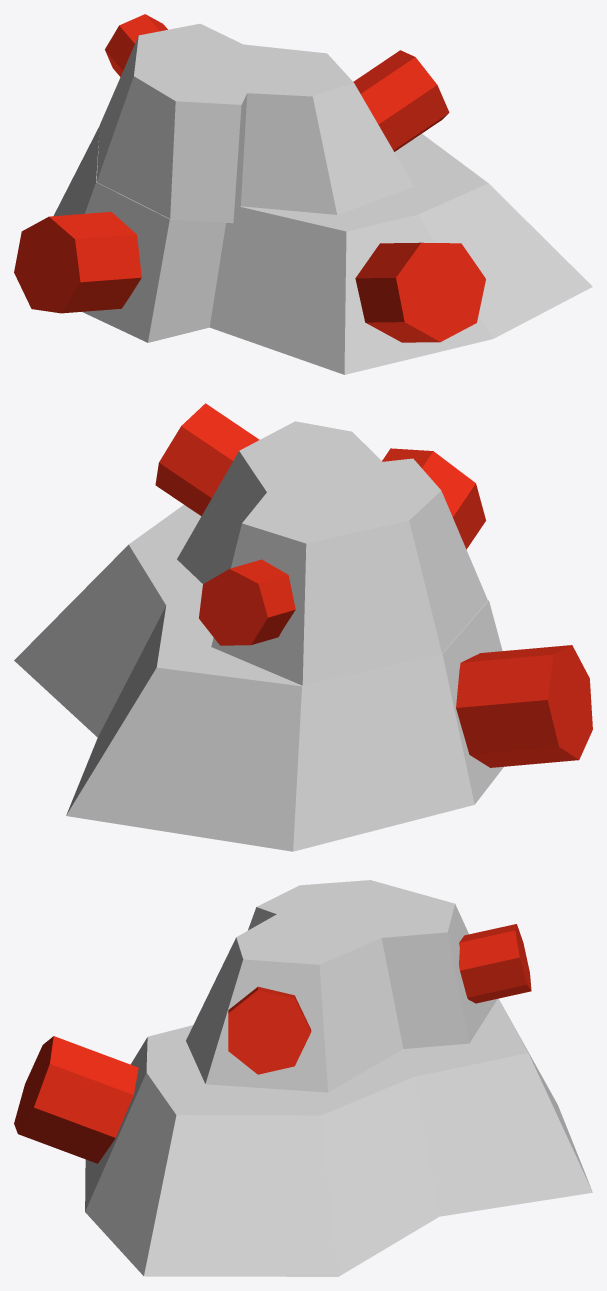
File: Rubi_Tipo1.fbx
The picture shows the model from 3 angles, top to bottom: view 1: azimuth 30°, elevation 25°; view 2: azimuth 150°, elevation 25°; view 3: azimuth 270°, elevation 25°; orthographic projection. The views are drawn at different scales.
Parts seen in each view (by area): view 1: base.002, Cylinder.008, Cylinder.009, rubi, Cylinder.004; view 2: base.002, Cylinder.008, Cylinder.004, rubi, Cylinder.009; view 3: base.002, Cylinder.009, rubi, Cylinder.004.
Boxes of the visible parts, x1,y1,x2,y2 form: base.002: (53, 23, 592, 374); Cylinder.008: (14, 212, 141, 313); Cylinder.009: (355, 242, 485, 342); rubi: (353, 50, 449, 151); Cylinder.004: (105, 14, 167, 76); base.002: (14, 421, 503, 851); Cylinder.008: (456, 645, 592, 767); Cylinder.004: (199, 559, 295, 645); rubi: (155, 403, 259, 516); Cylinder.009: (382, 448, 485, 549); base.002: (85, 880, 592, 1276); Cylinder.009: (14, 1036, 138, 1163); rubi: (228, 986, 311, 1074); Cylinder.004: (459, 924, 531, 1003).
Size of the model in its own units: 150 by 66.46 by 155.
